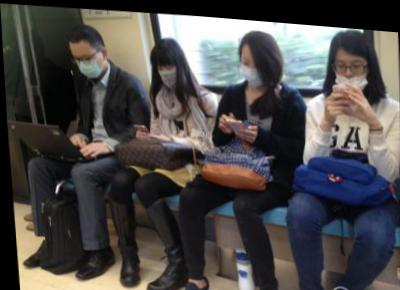OK: (70, 47, 102, 79), (240, 48, 267, 85), (157, 58, 181, 88)
WRONG: (332, 49, 368, 89)
